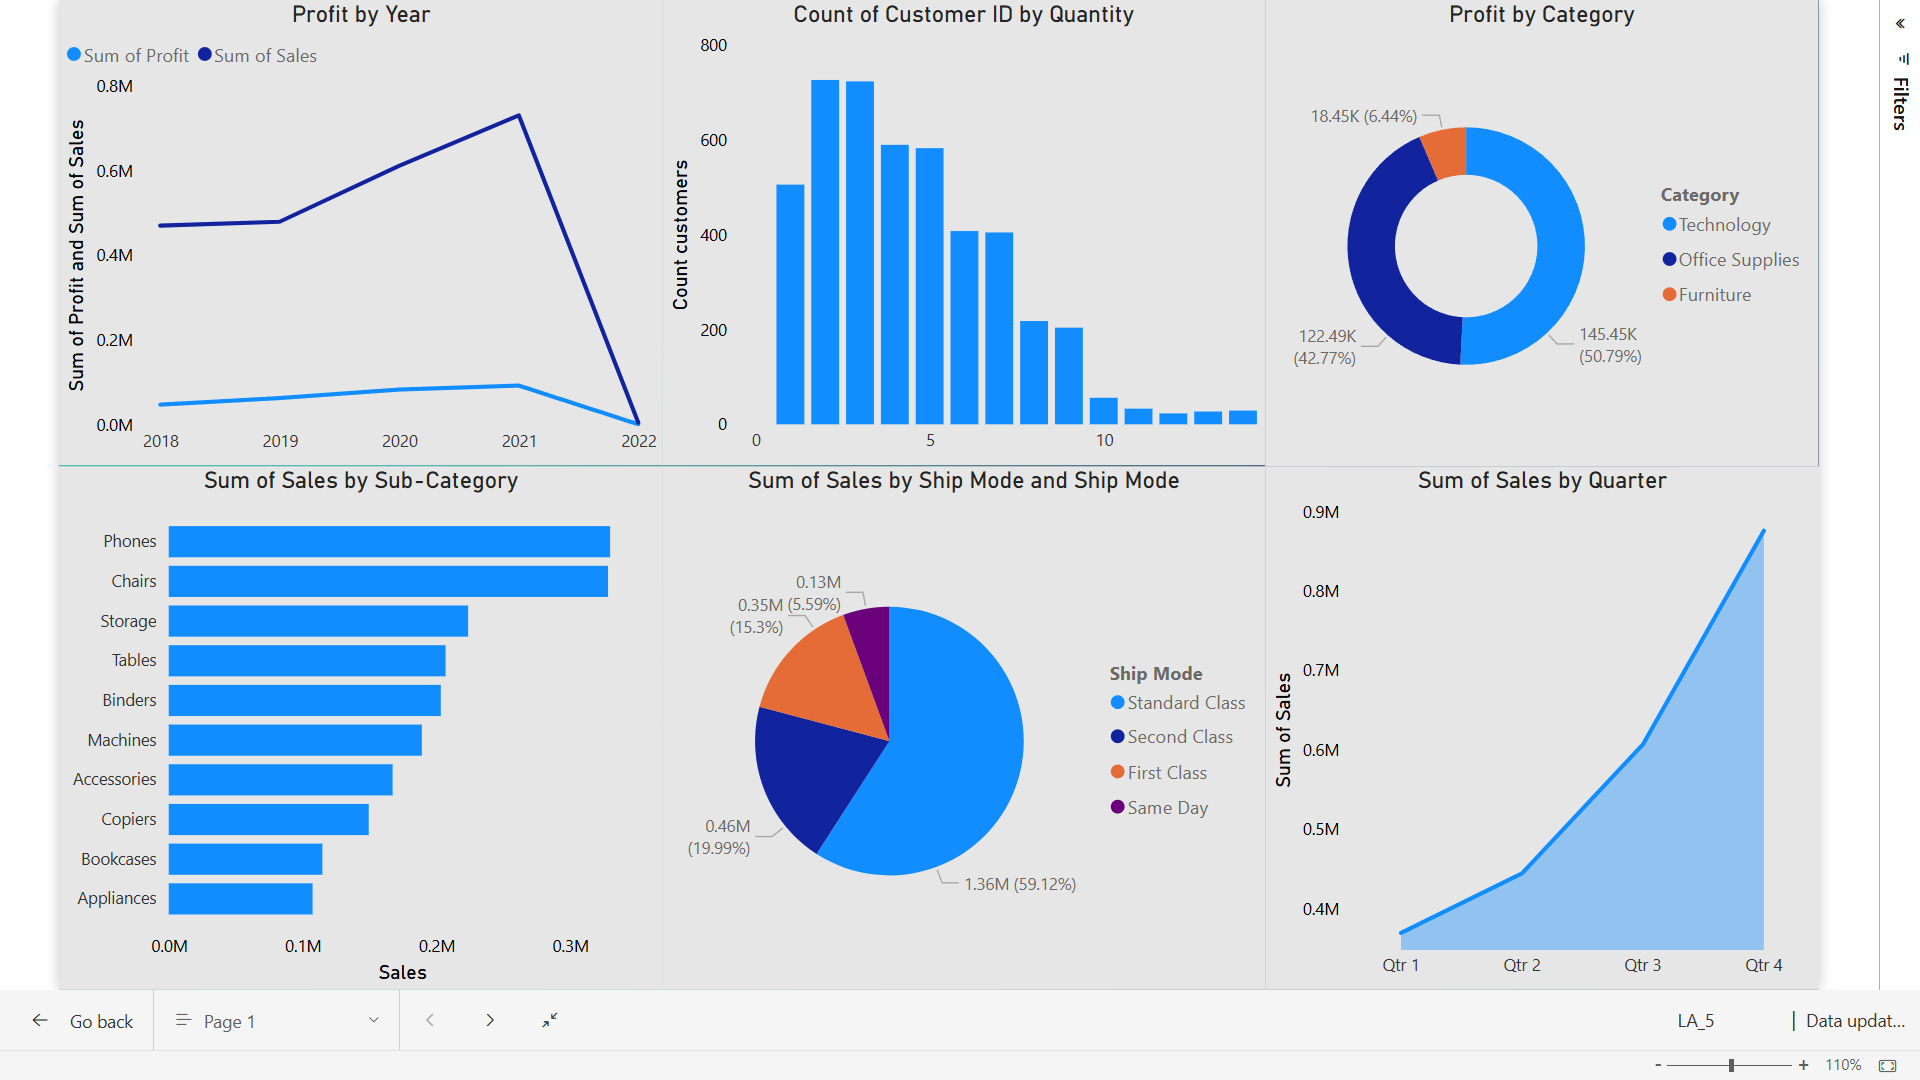

The dashboard page shown, as its layout file describes it:
{"tool":"powerbi","page":{"name":"Page 1","canvas":[1280,720],"ordinal":0},"visuals":[{"type":"lineChart","title":"Profit by Year","fields":{"Category":["Orders.Ship Date.Variation.Date Hierarchy.Year"],"Y":["Sum(Orders.Profit)","Sum(Orders.Sales)"]},"box":[0,0,439.5,338.8],"z":0},{"type":"clusteredColumnChart","fields":{"Category":["Orders.Quantity"],"Y":["Count(Orders.Customer ID)"]},"box":[439.5,0,438.1,338.8],"z":1000},{"type":"clusteredBarChart","fields":{"Category":["Orders.Sub-Category"],"Y":["Sum(Orders.Sales)"]},"box":[0,338.8,439.5,381],"z":2000},{"type":"pieChart","fields":{"Category":["Orders.Ship Mode"],"Y":["Sum(Orders.Sales)"],"Series":["Orders.Ship Mode"]},"box":[439.5,338.8,438.1,381],"z":3000},{"type":"donutChart","title":"Profit by Category","fields":{"Category":["Orders.Category"],"Y":["Sum(Orders.Profit)"]},"box":[877.4,0,402.6,339.1],"z":4000},{"type":"areaChart","fields":{"Category":["Orders.Ship Date.Variation.Date Hierarchy.Quarter"],"Y":["Sum(Orders.Sales)"]},"box":[877,339,403,381],"z":5000}]}

Visuals, with their boxes on the page's 1280x720 design canvas (x1, y1, x2, y2). These are canvas units, not pixel positions in the 1920x1080 screenshot, which may show the page scaled, cropped or inside an application window:
"Profit by Year" lineChart: 0, 0, 440, 339
clusteredColumnChart - Orders.Quantity x Count(Orders.Customer ID): 440, 0, 878, 339
clusteredBarChart - Orders.Sub-Category x Sum(Orders.Sales): 0, 339, 440, 720
pieChart - Orders.Ship Mode x Sum(Orders.Sales): 440, 339, 878, 720
"Profit by Category" donutChart: 877, 0, 1280, 339
areaChart - Orders.Ship Date.Variation.Date Hierarchy.Quarter x Sum(Orders.Sales): 877, 339, 1280, 720
